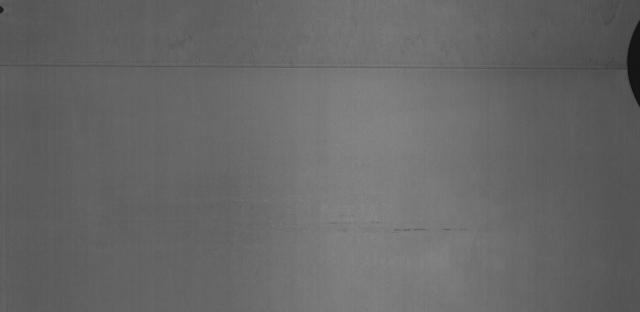crescent_gap: (618, 9, 640, 121)
welding_line: (0, 51, 633, 81)
